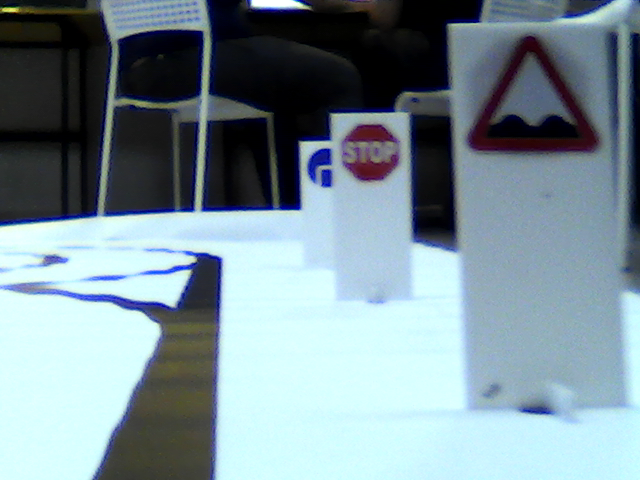Nerov: (465, 38, 603, 157)
Stop: (340, 121, 399, 181)
